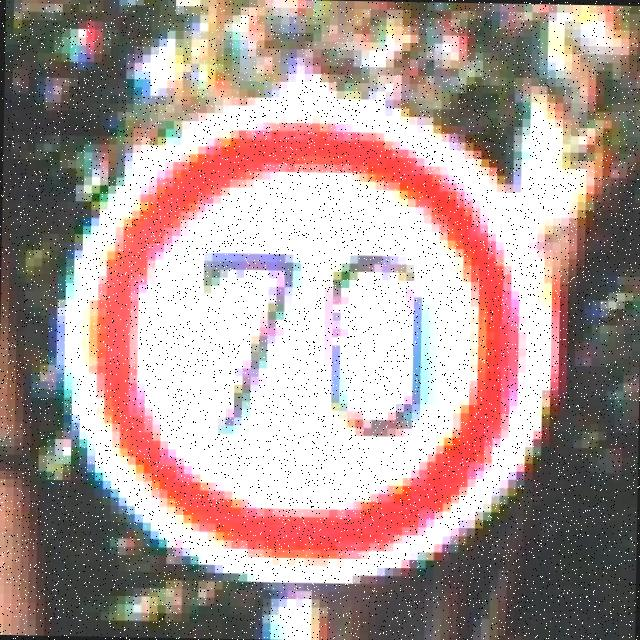Ograniczenie predkosci do 70: (75, 99, 549, 586)
